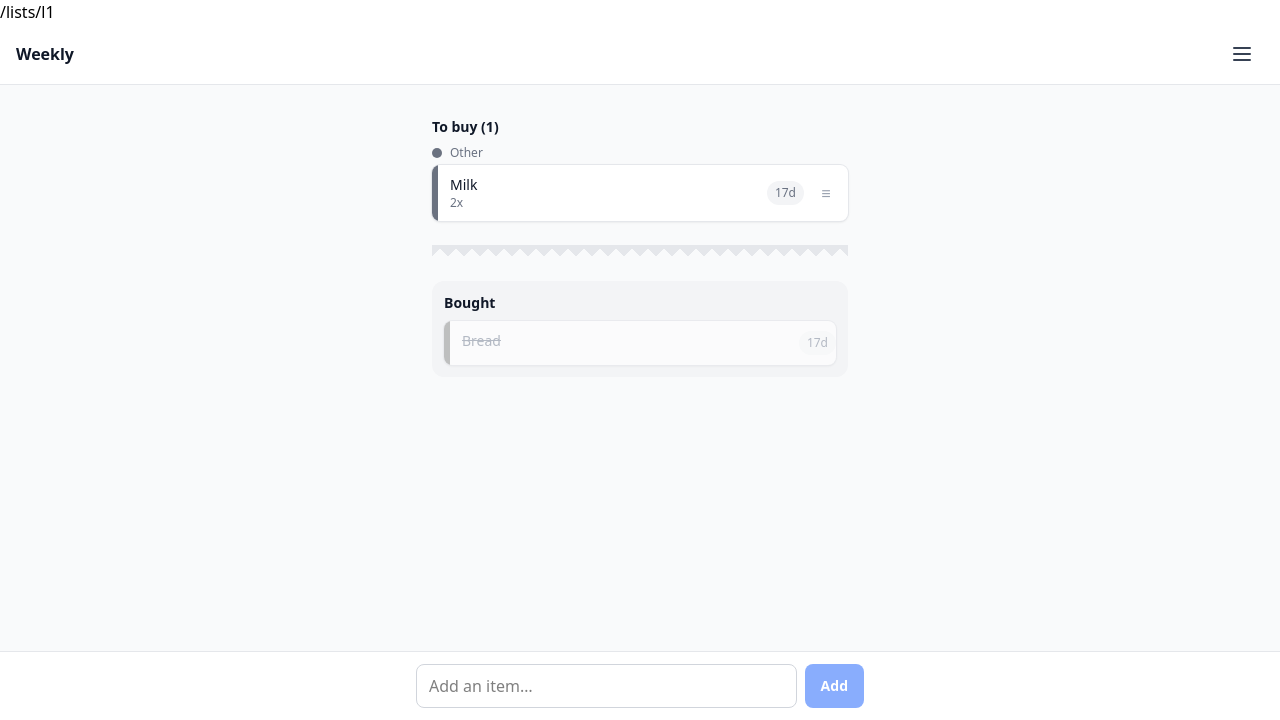
Test: ListsPage (docs/TASKS.md → T30 single-line header + overlay menu) › deletes the selected OWNER list from the menu and falls back to another list
The image size is (1280, 720).
Expected: the list item with test id "item-row-i1" is shown, [432,165,848,221]
What coordinates should you click on to do the following:
click the button named "Menu"
I would click on:
 (1242, 54)
Its box is [1220,32,1264,76].
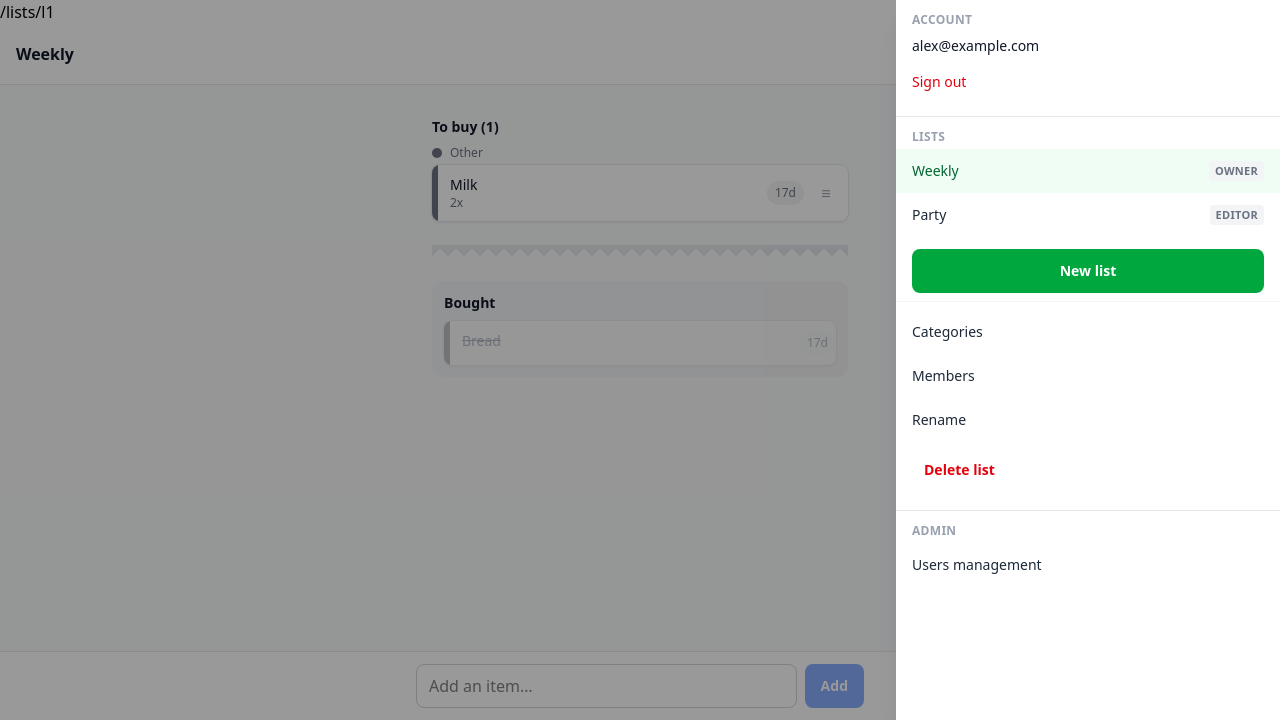
What coordinates should you click on to do the following:
click the button "Delete list"
I would click on:
 (959, 470)
Its box is [912,450,1007,490].
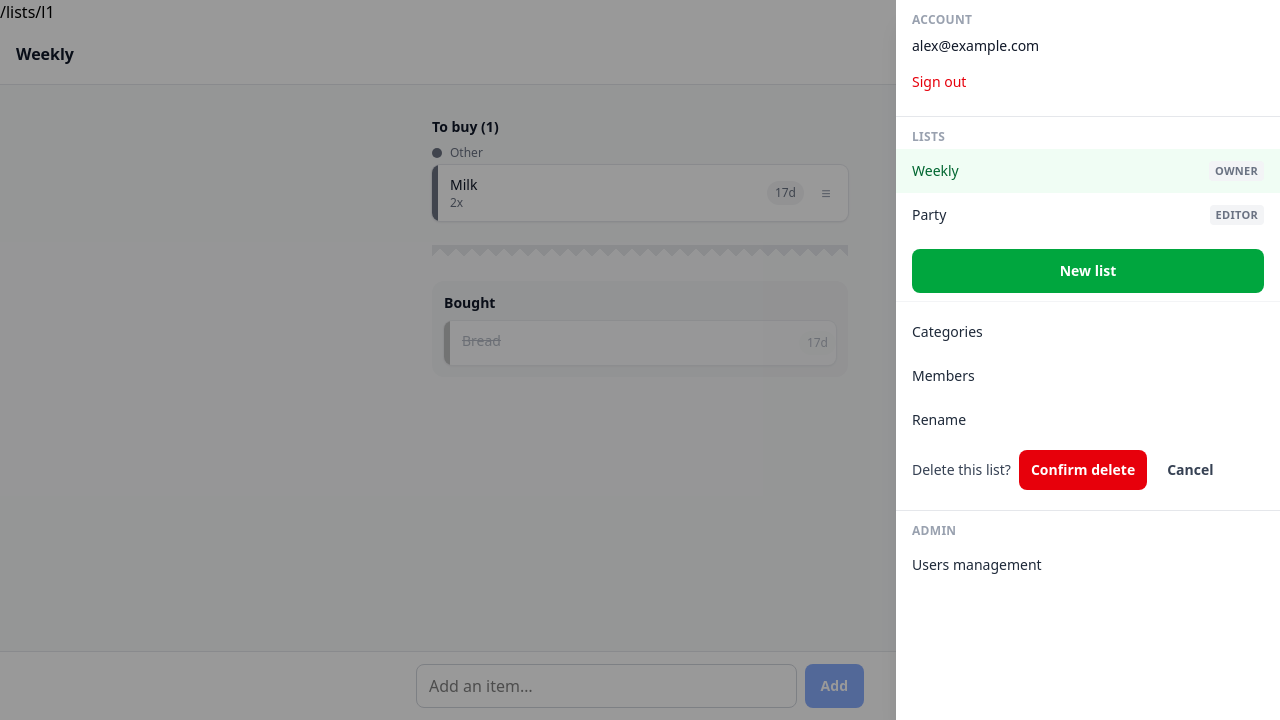
What coordinates should you click on to do the following:
click the button "Confirm delete"
I would click on:
 (1083, 470)
Its box is [1019,450,1147,490].
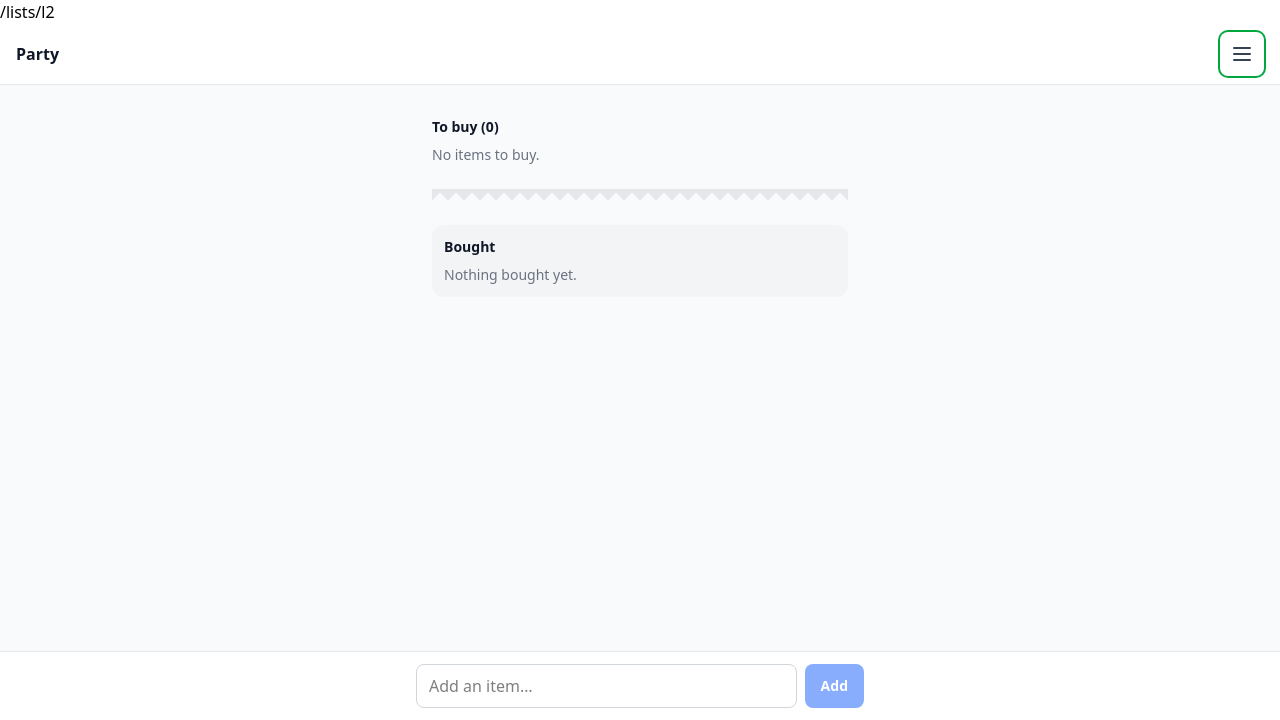
Result: the element with test id "menu-overlay" is gone
Result: the text with test id "pathname" reads "/lists/l2" at [0,1,54,23]
Result: the heading "Party" is shown at [16,43,59,65]
